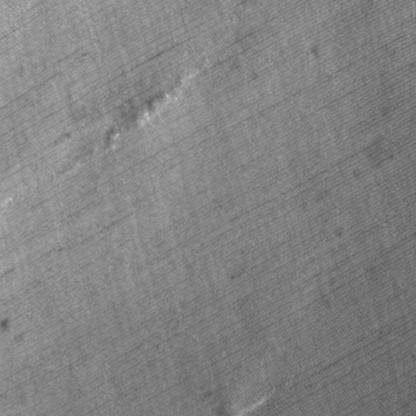thread error: (94, 64, 202, 161)
